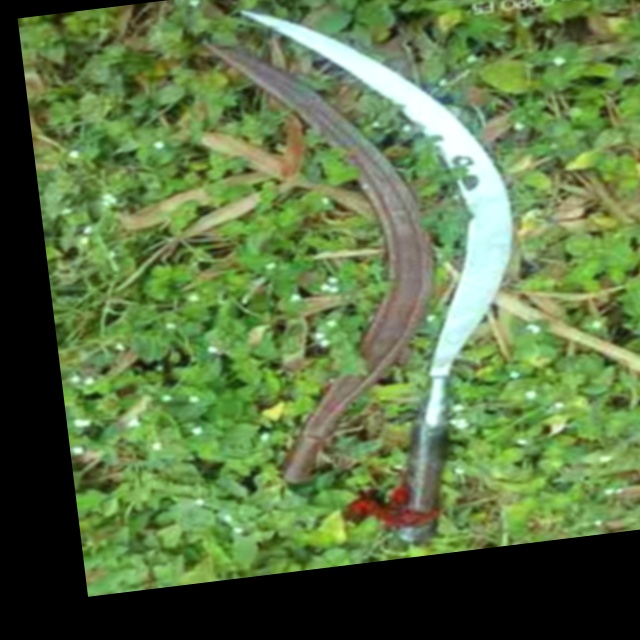Sharp-Object: (236, 0, 557, 569)
